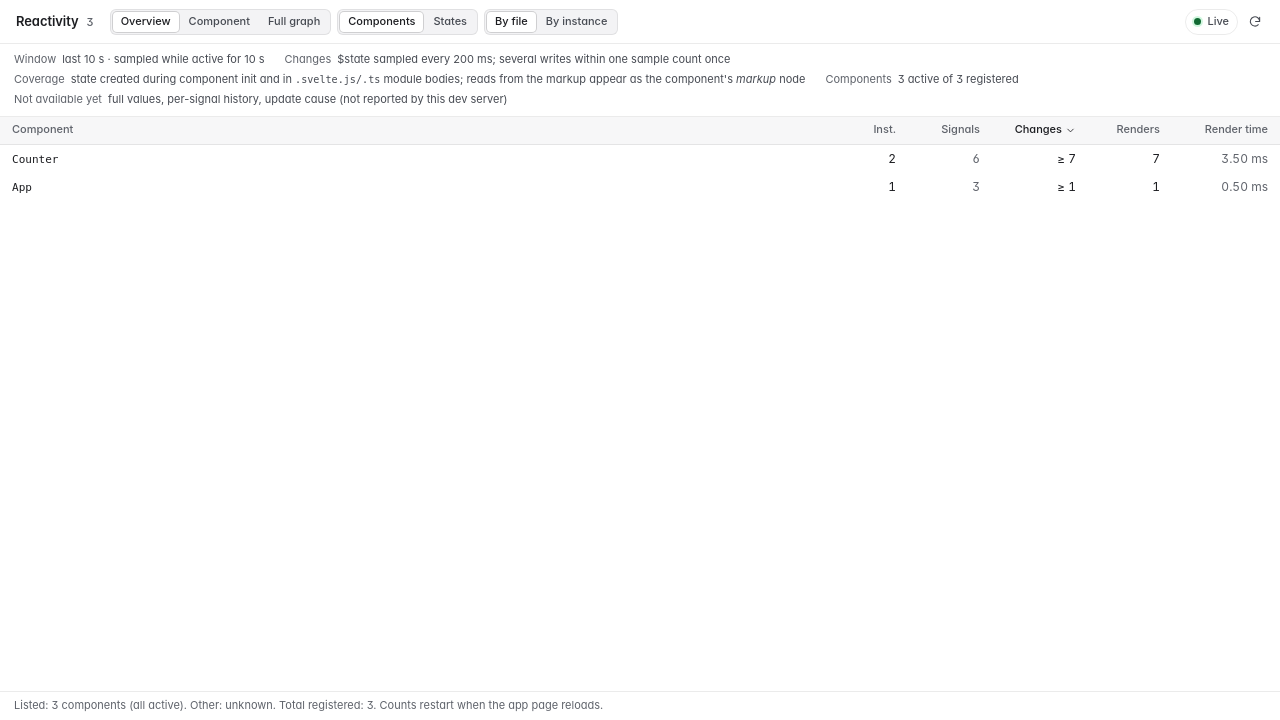
Test: ReactiveGraph: components overview › without a page-load id instances cannot be selected
Click the option "Counter 2 6 ≥ 7 7 3.50 ms": (35, 159) [12,151,1268,166]
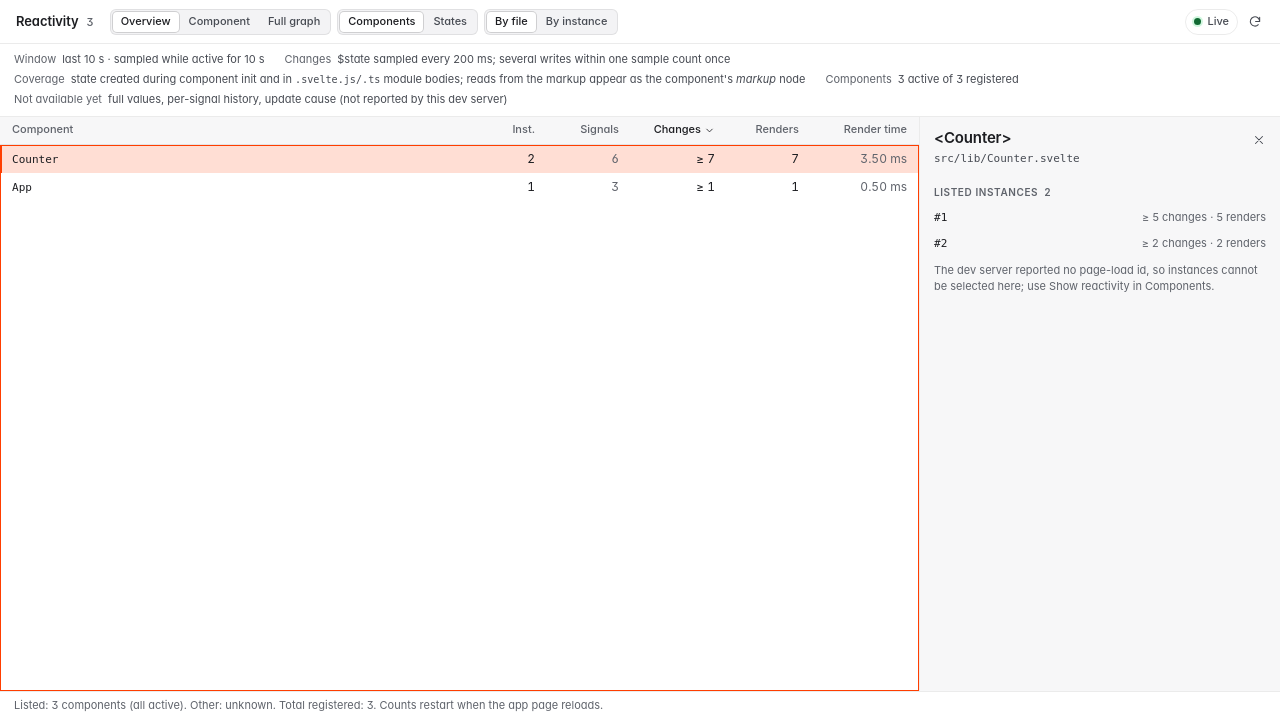
Now the button "#1 ≥ 5 changes · 5 renders" is disabled, box [926,205,1274,231]
Now the element named "<Counter> details" shows "reported no page-load id", box [934,263,1258,293]
